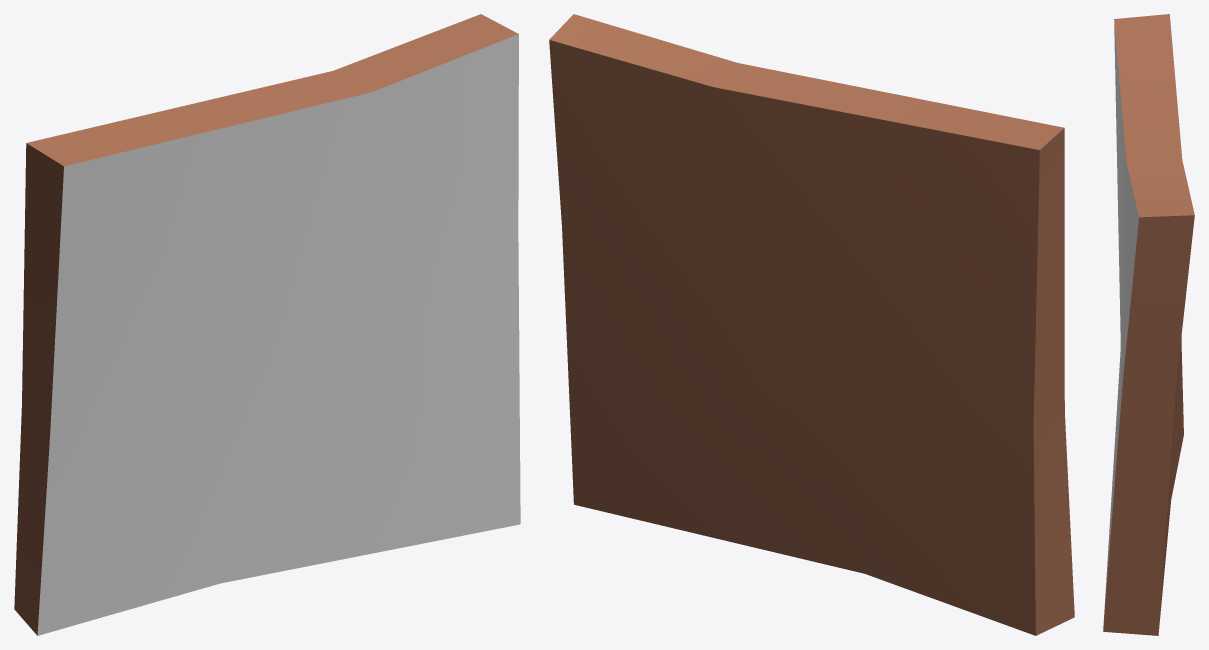
File: ice_pole_wood_signpost.fbx
3 renders of one model, left to right at view 1: azimuth 30°, elevation 25°; view 2: azimuth 150°, elevation 25°; view 3: azimuth 270°, elevation 25°, orthographic. The views are drawn at different scales.
Parts seen in each view (by area): view 1: pole_wood_signpost; view 2: pole_wood_signpost; view 3: pole_wood_signpost.
Part boxes in pixels (<box>): pole_wood_signpost: <box>14,14,520,635</box>; pole_wood_signpost: <box>549,14,1074,635</box>; pole_wood_signpost: <box>1103,14,1194,635</box>.
Bounding box in the file's own units: 1.21 × 1.13 × 0.2193.
